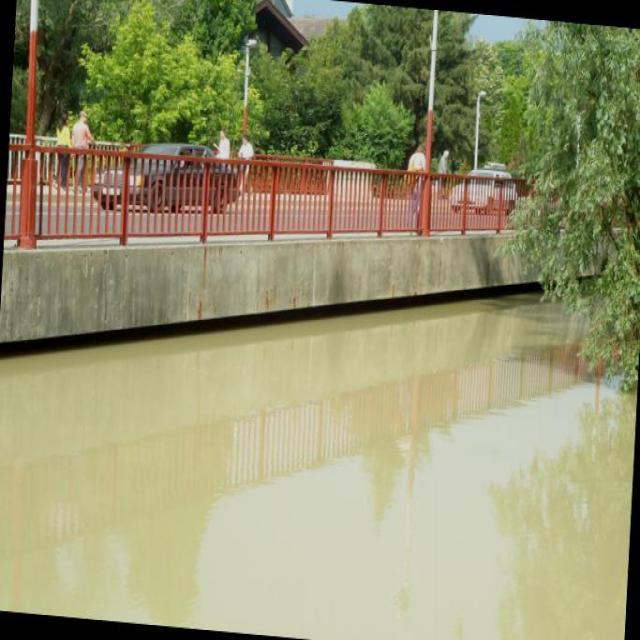flood: (0, 256, 639, 639)
